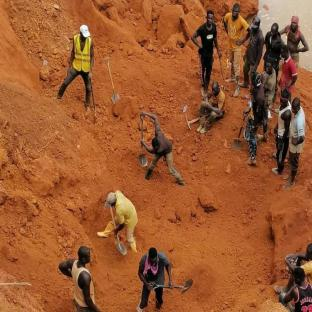Person: (132, 110, 187, 191), (58, 20, 102, 113), (51, 237, 105, 312), (99, 186, 141, 257), (186, 84, 232, 137), (140, 246, 177, 308), (190, 10, 219, 82), (225, 4, 242, 97), (248, 72, 263, 161), (283, 12, 311, 56), (277, 88, 289, 176), (292, 99, 304, 186), (277, 44, 298, 88), (248, 16, 262, 73), (263, 60, 278, 102), (267, 19, 283, 49)
